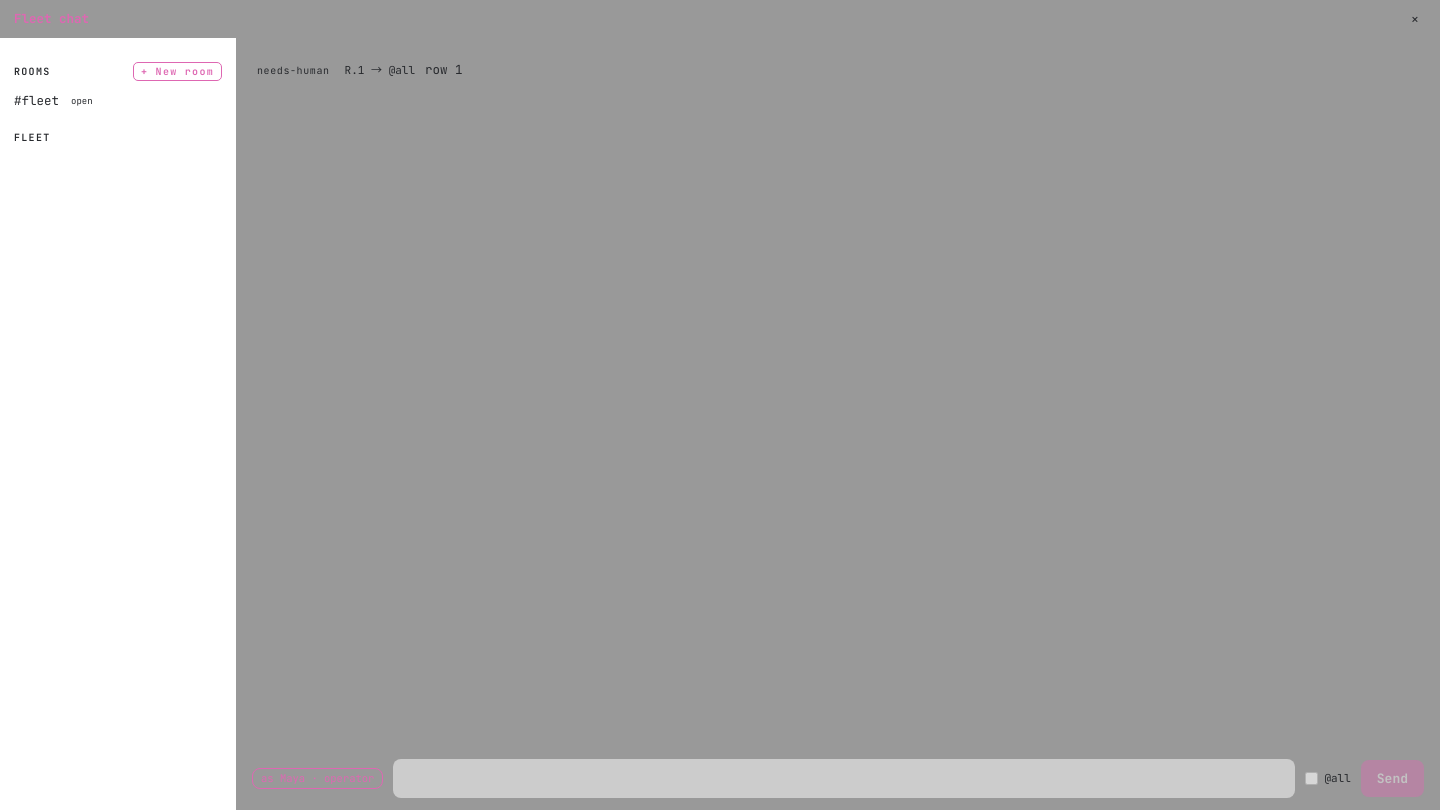
ChatroomPane shell › HED-291: a needs-human row addressed to @all opens the flagging sender's conversation
Expected: the element with test id "comms-rail" is shown, [0, 38, 236, 809]
Click the list item with test id "comms-needs-row-1" at x=360, y=70, box [257, 61, 462, 78]
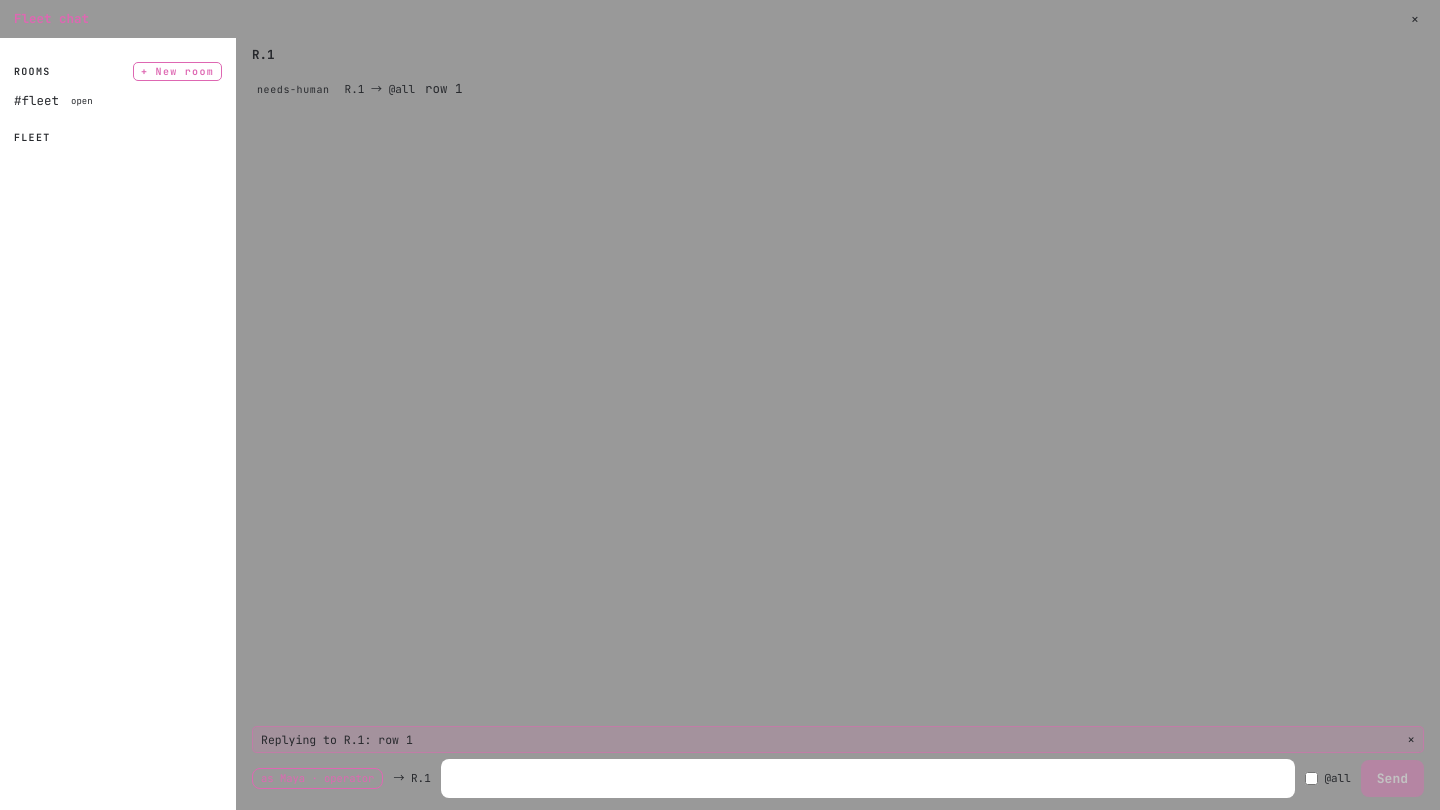
Now the 2nd text "R.1" is shown, box [252, 46, 274, 63]
